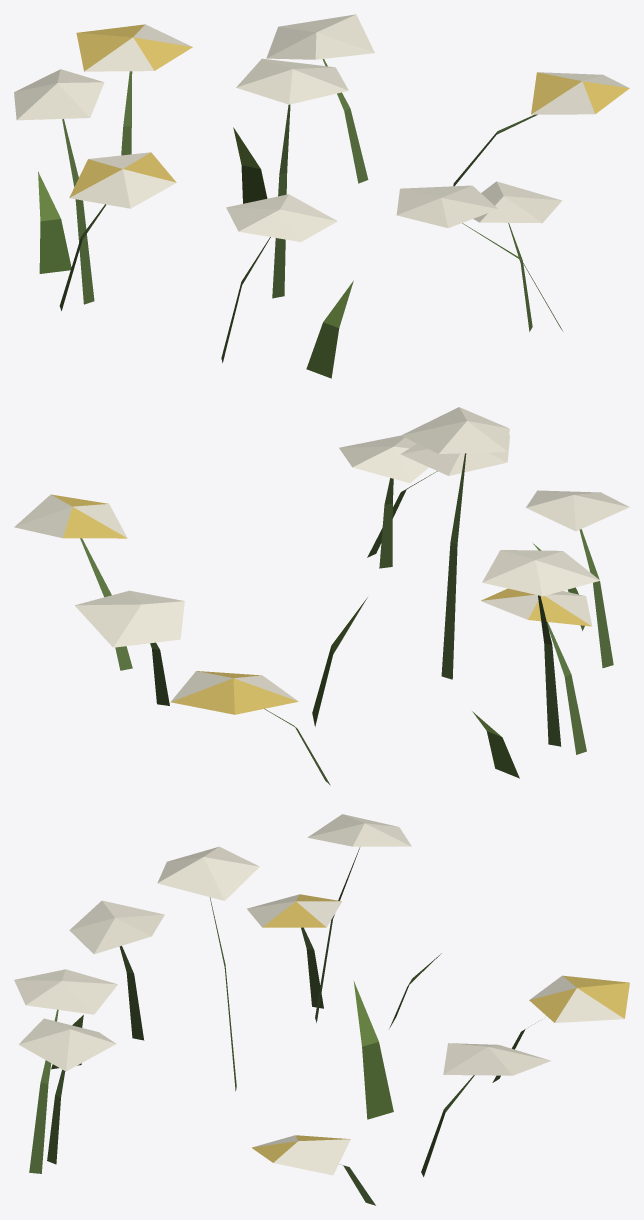
File: flower-daisy.glb
3 renders of one model, top to bottom at view 1: azimuth 30°, elevation 25°; view 2: azimuth 150°, elevation 25°; view 3: azimuth 270°, elevation 25°, orthographic. The views are drawn at different scales.
Visible parts, largest first — view 1: Flower_Daisy; view 2: Flower_Daisy; view 3: Flower_Daisy.
Part boxes in pixels (x1,y1,x2,y2): Flower_Daisy: (14,14,629,378); Flower_Daisy: (14,407,629,785); Flower_Daisy: (14,814,629,1205).
Size of the model in its own units: 0.5966 by 0.2364 by 0.5704.
Materials: 1 (1 with a texture image).
